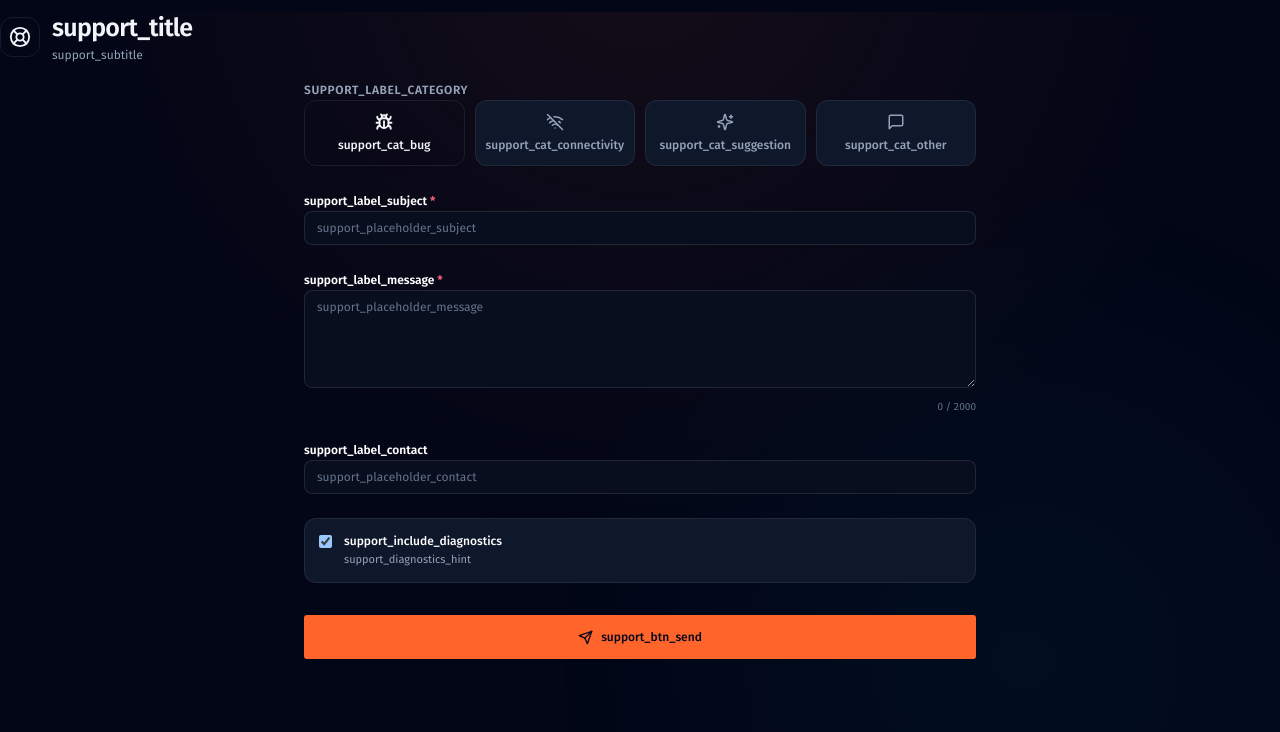
Scenario: SupportView Component › shows error when message is under 10 characters
The image size is (1280, 732).
Step 1. Type "Test Başlığı" into the field labelled "support_label_subject *" → (640, 228), box [304,210,976,244]
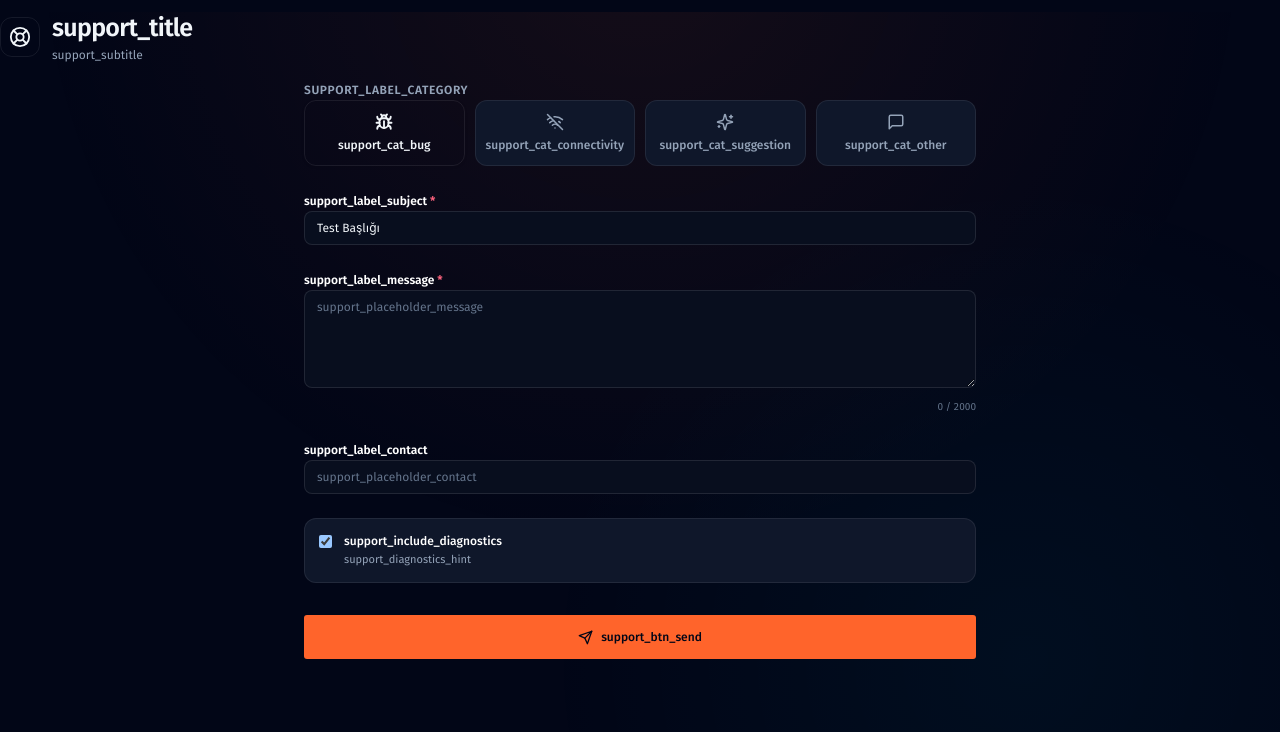
Step 2. Type "Kısa" into the text box labelled "support_label_message *" → (640, 338), box [304,290,976,388]
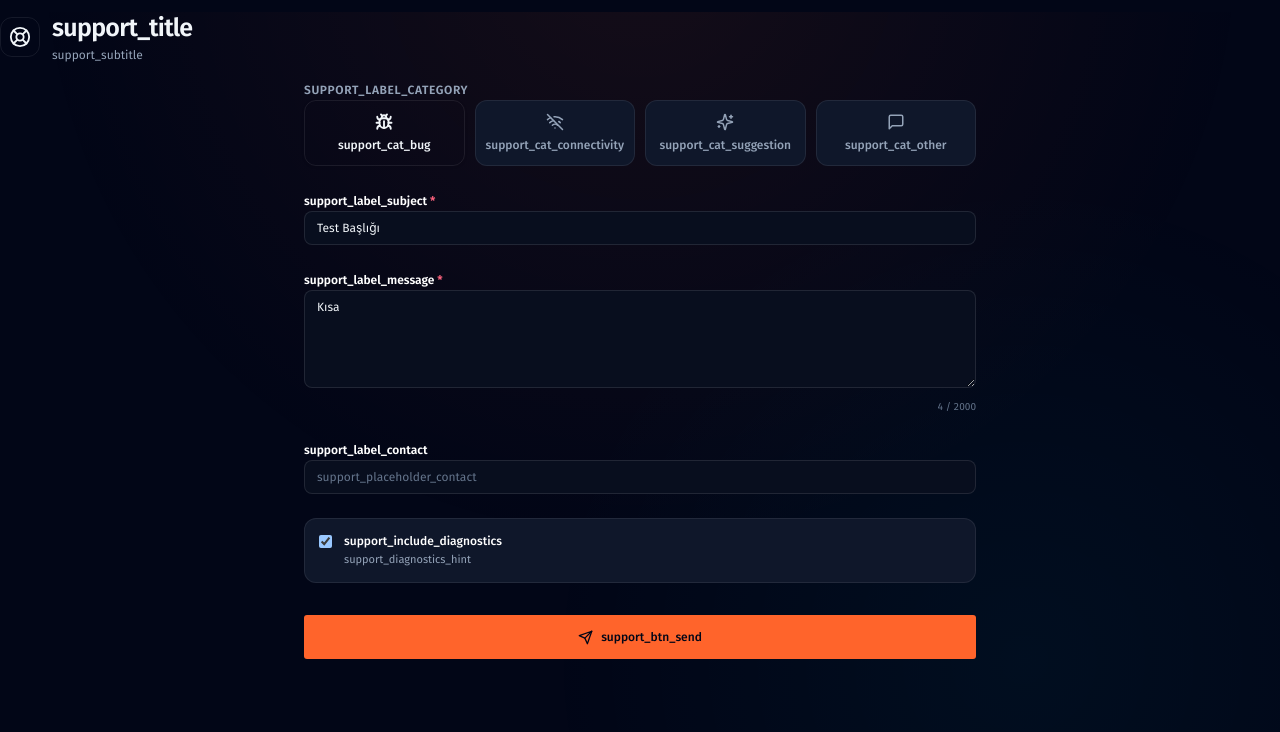
Step 3. Click the button "support_btn_send" → (640, 637), box [304,615,976,659]
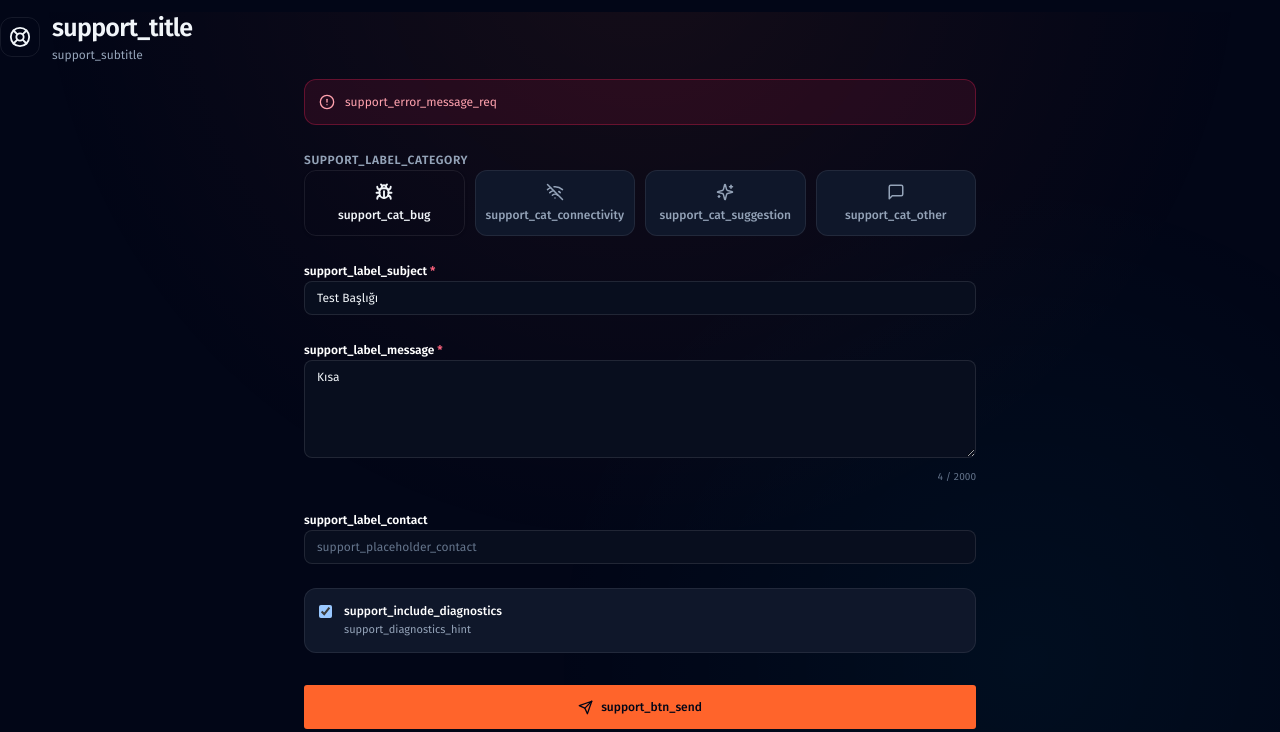
Check: the text "support_error_message_req" is shown, box [345,94,497,110]
